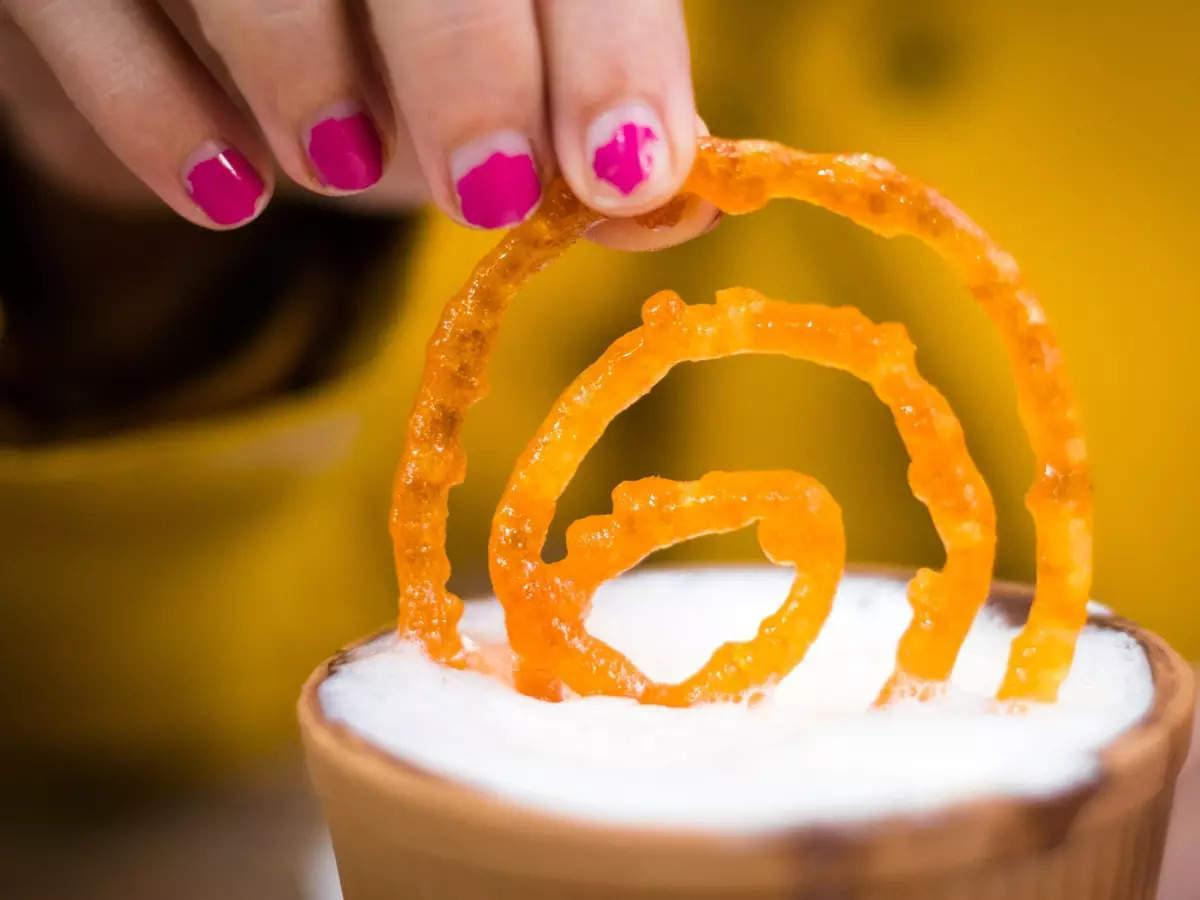jalebi: (430, 189, 1088, 702)
